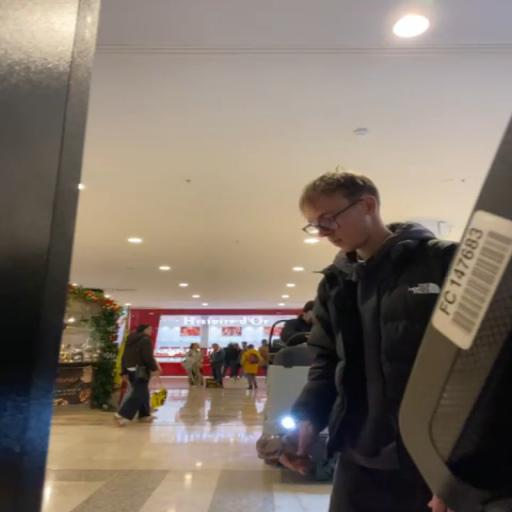kendama_ball: (256, 435, 285, 459)
